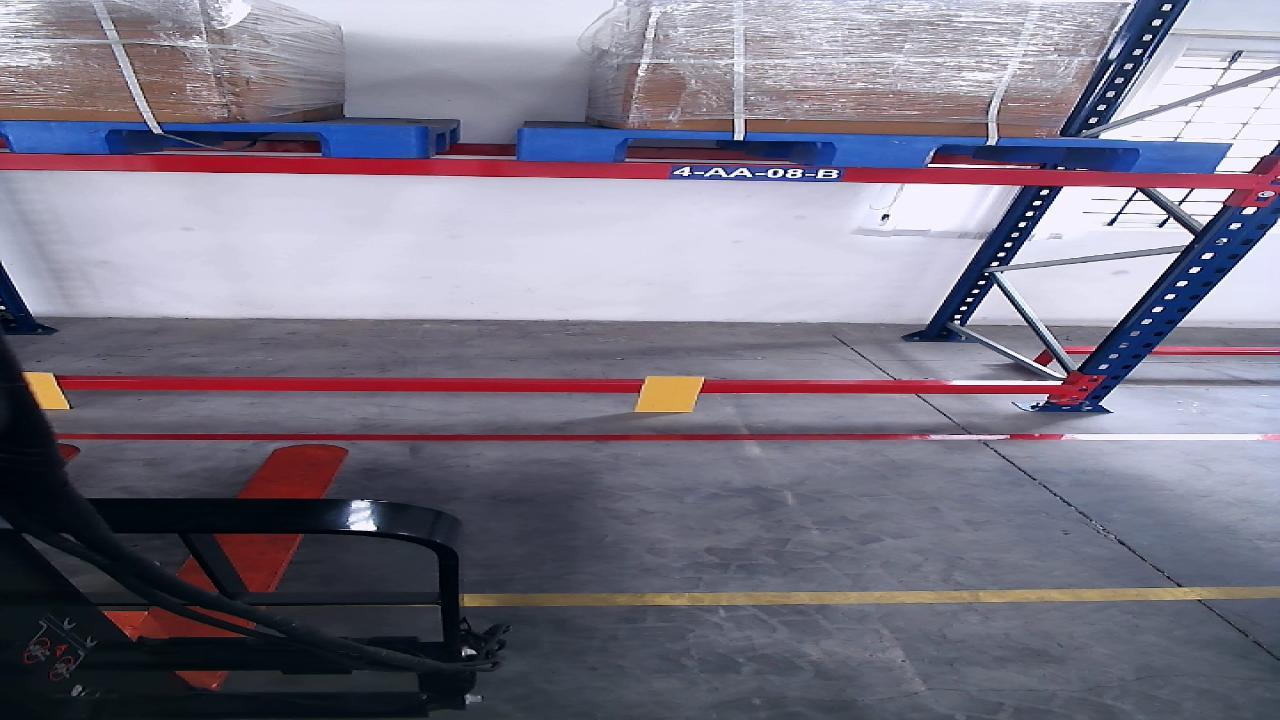h_rack: (0, 152, 1255, 189), (57, 380, 1060, 395)
orange_strip: (637, 376, 707, 411)
red_line: (57, 433, 1277, 440)
small_pallet: (518, 129, 1237, 173), (3, 122, 421, 157)
yellow_line: (468, 586, 1277, 605)
